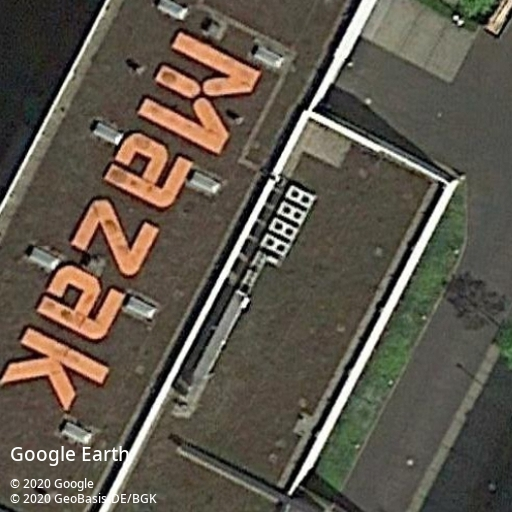Chiller: (286, 184, 316, 209), (268, 217, 299, 241), (259, 233, 290, 257), (277, 201, 307, 224)
